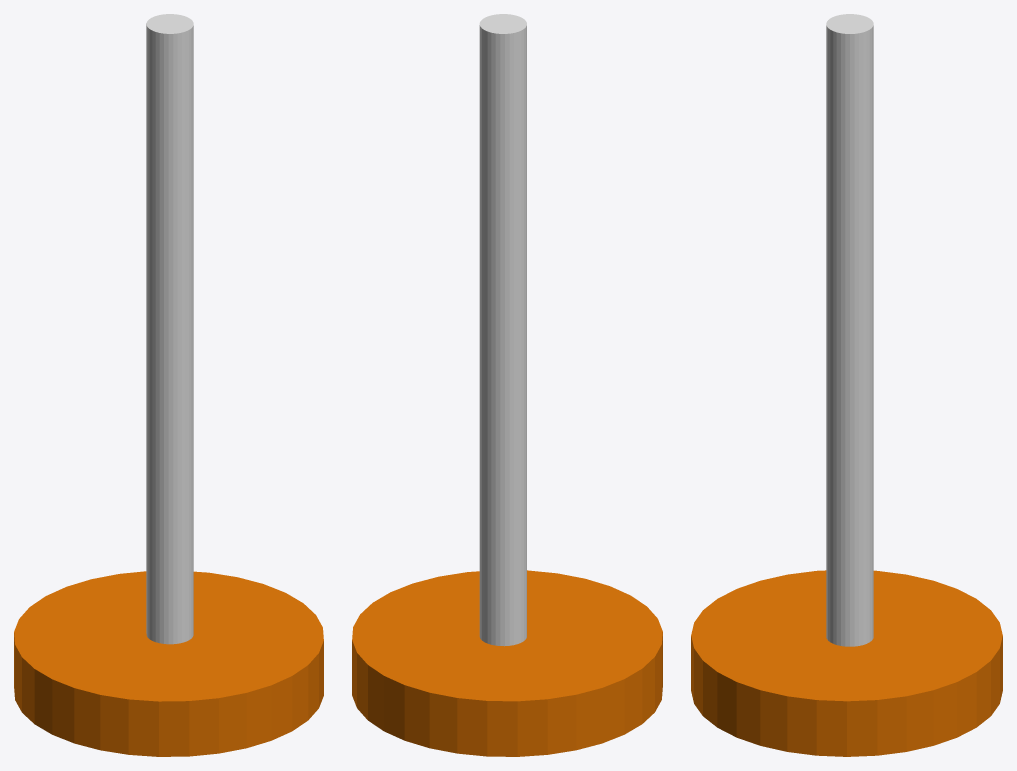
Rendered from Towers of Hanoi 1 ring third.fbx.
The picture shows the model from 3 angles, left to right: view 1: azimuth 30°, elevation 25°; view 2: azimuth 150°, elevation 25°; view 3: azimuth 270°, elevation 25°; orthographic projection.
Visible parts, largest first — view 1: Cylinder.002, Cylinder; view 2: Cylinder.002, Cylinder; view 3: Cylinder.002, Cylinder.
Boxes of the visible parts, x1,y1,x2,y2 form: Cylinder.002: (14, 571, 323, 756); Cylinder: (146, 14, 193, 644); Cylinder.002: (352, 570, 662, 756); Cylinder: (479, 14, 526, 646); Cylinder.002: (691, 570, 1002, 756); Cylinder: (826, 14, 873, 646).
Size of the model in its own units: 211 by 505 by 211.
